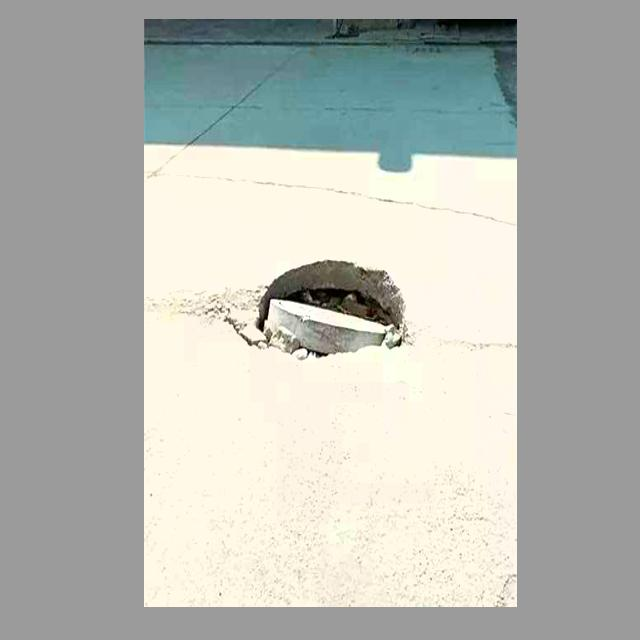circle: (203, 244, 423, 389)
